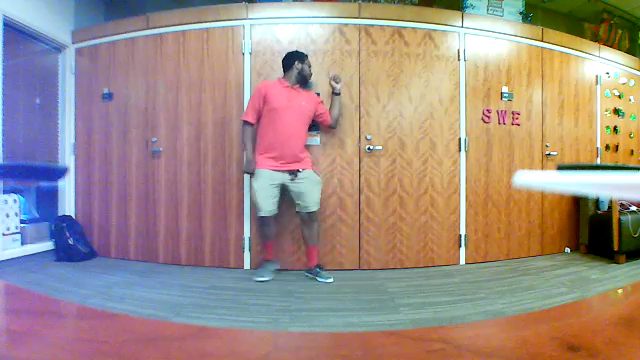up: (322, 65, 349, 96)
